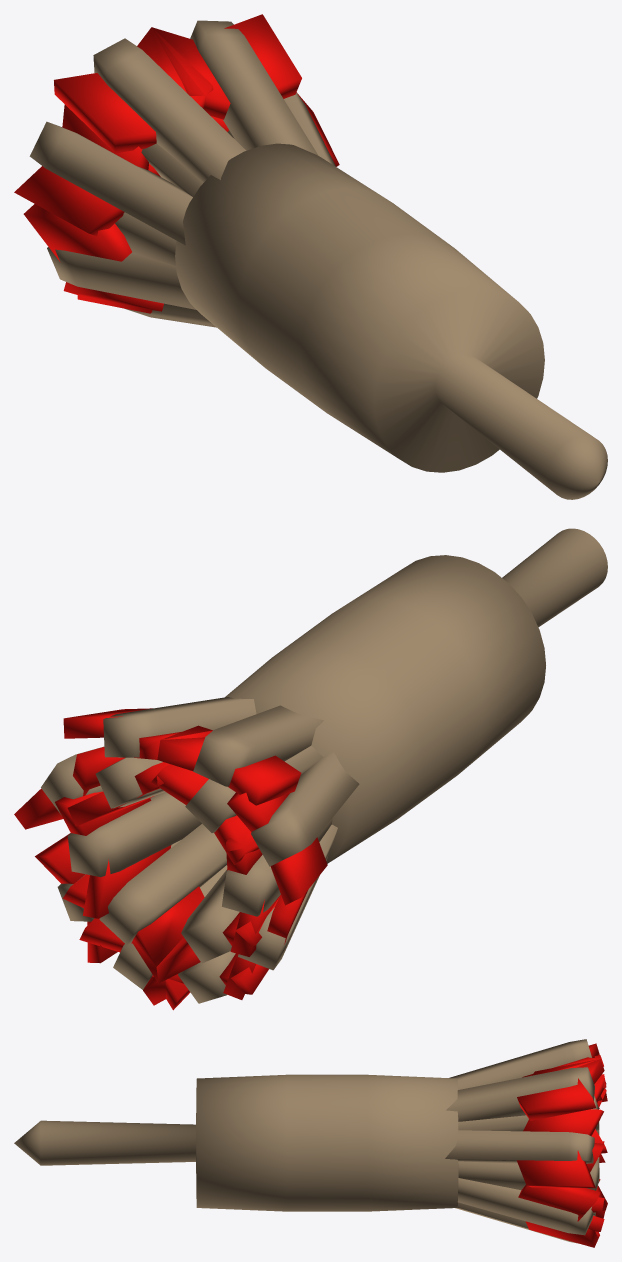
The model's file is Bullet Sumpit.fbx.
The picture shows the model from 3 angles, top to bottom: view 1: azimuth 30°, elevation 25°; view 2: azimuth 150°, elevation 25°; view 3: azimuth 270°, elevation 25°; orthographic projection. The views are drawn at different scales.
Visible parts, largest first — view 1: Bullet Sumpit; view 2: Bullet Sumpit; view 3: Bullet Sumpit.
Part boxes in pixels (<box>): Bullet Sumpit: <box>14,14,607,499</box>; Bullet Sumpit: <box>14,528,607,1010</box>; Bullet Sumpit: <box>14,1039,607,1247</box>.
Size of the model in its own units: 8.22 by 7.42 by 21.71.
